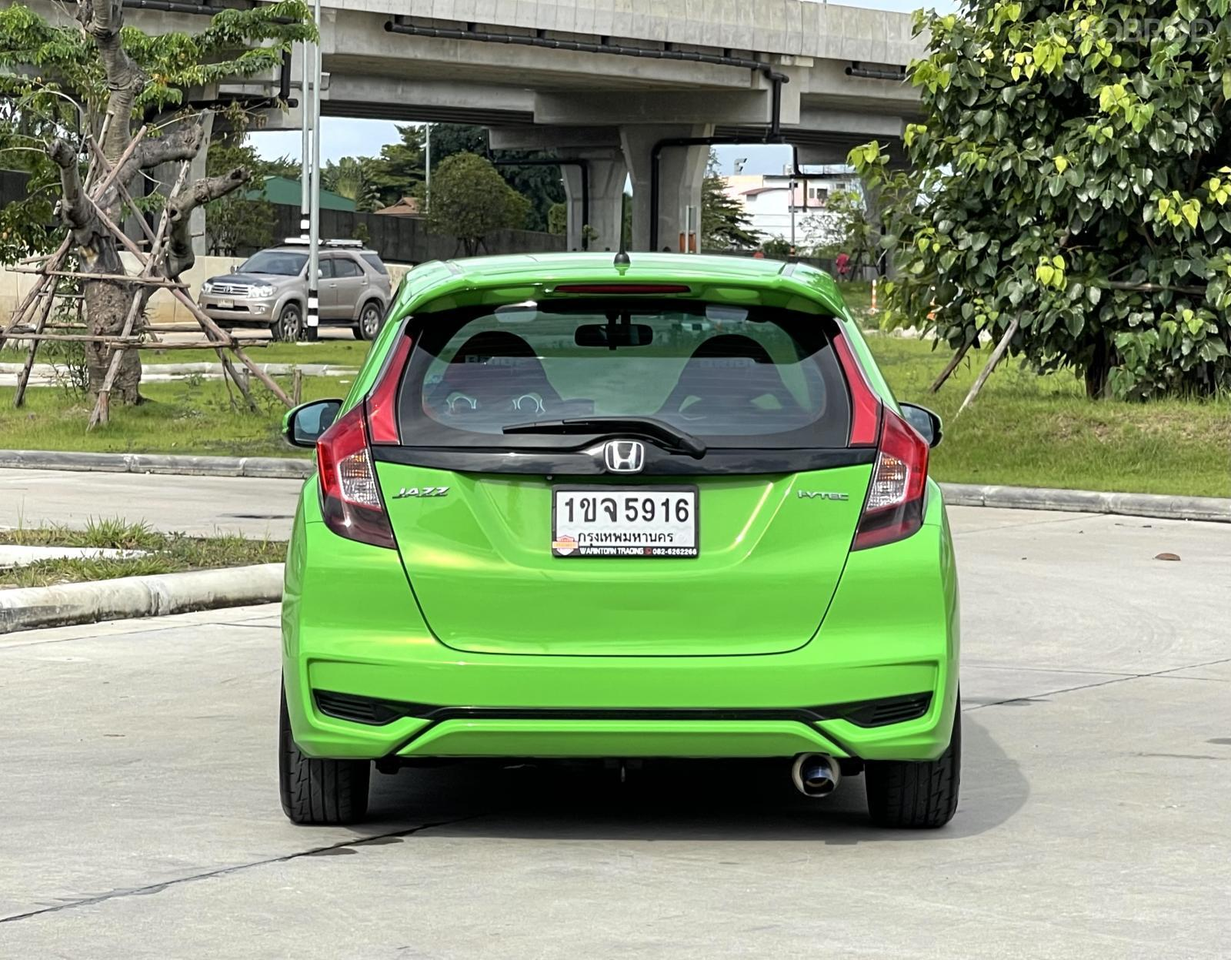license-plate: (548, 476, 700, 562)
